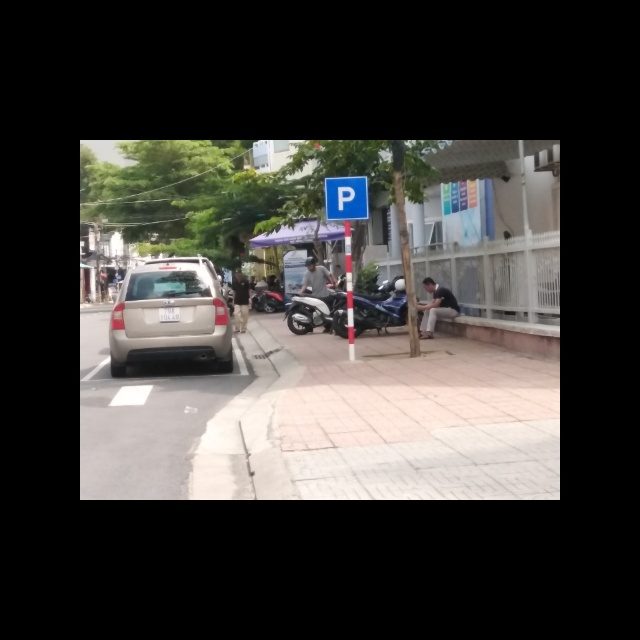Nơi đỗ xe: (325, 177, 371, 222)
